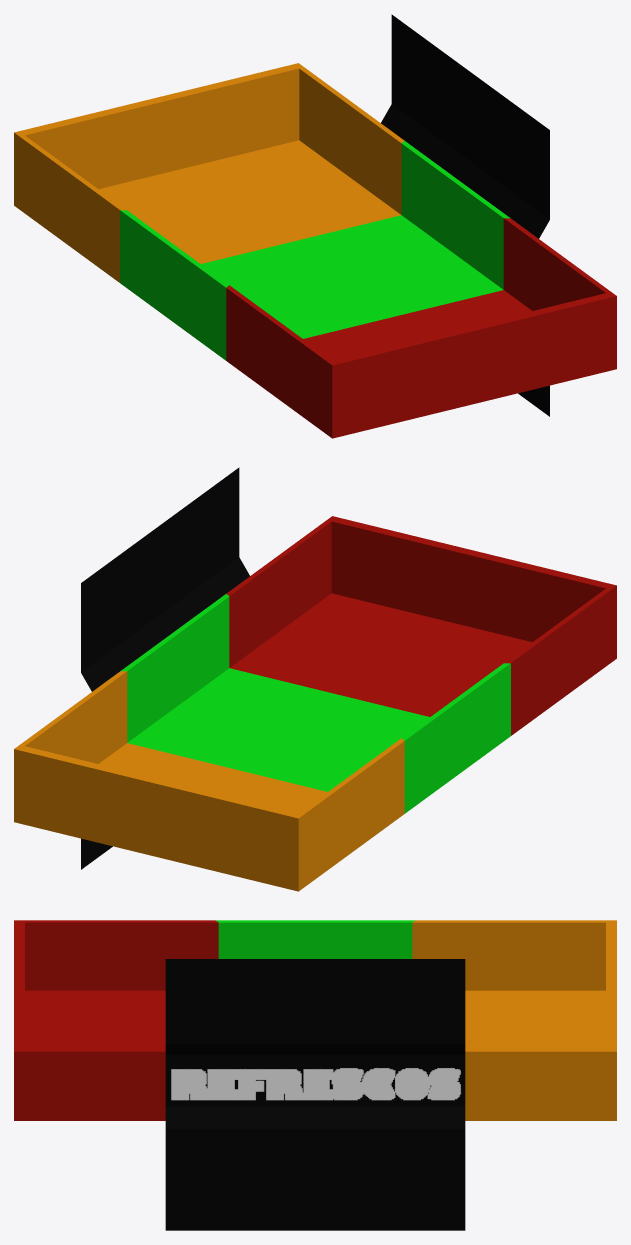
Rendered from Caja de latas o snacks 1.fbx.
The picture shows the model from 3 angles, top to bottom: view 1: azimuth 30°, elevation 25°; view 2: azimuth 150°, elevation 25°; view 3: azimuth 270°, elevation 25°; orthographic projection. The views are drawn at different scales.
Parts seen in each view (by area): view 1: Cube, Marcas Piratas-13; view 2: Cube, Marcas Piratas-13; view 3: Marcas Piratas-13, Cube.
Part boxes in pixels (x1,y1,x2,y2): Cube: (14,63,616,438); Marcas Piratas-13: (381,14,549,416); Cube: (14,516,616,891); Marcas Piratas-13: (81,467,249,869); Marcas Piratas-13: (165,959,465,1230); Cube: (14,920,616,1120).
Size of the model in its own units: 868 by 799 by 1608.
